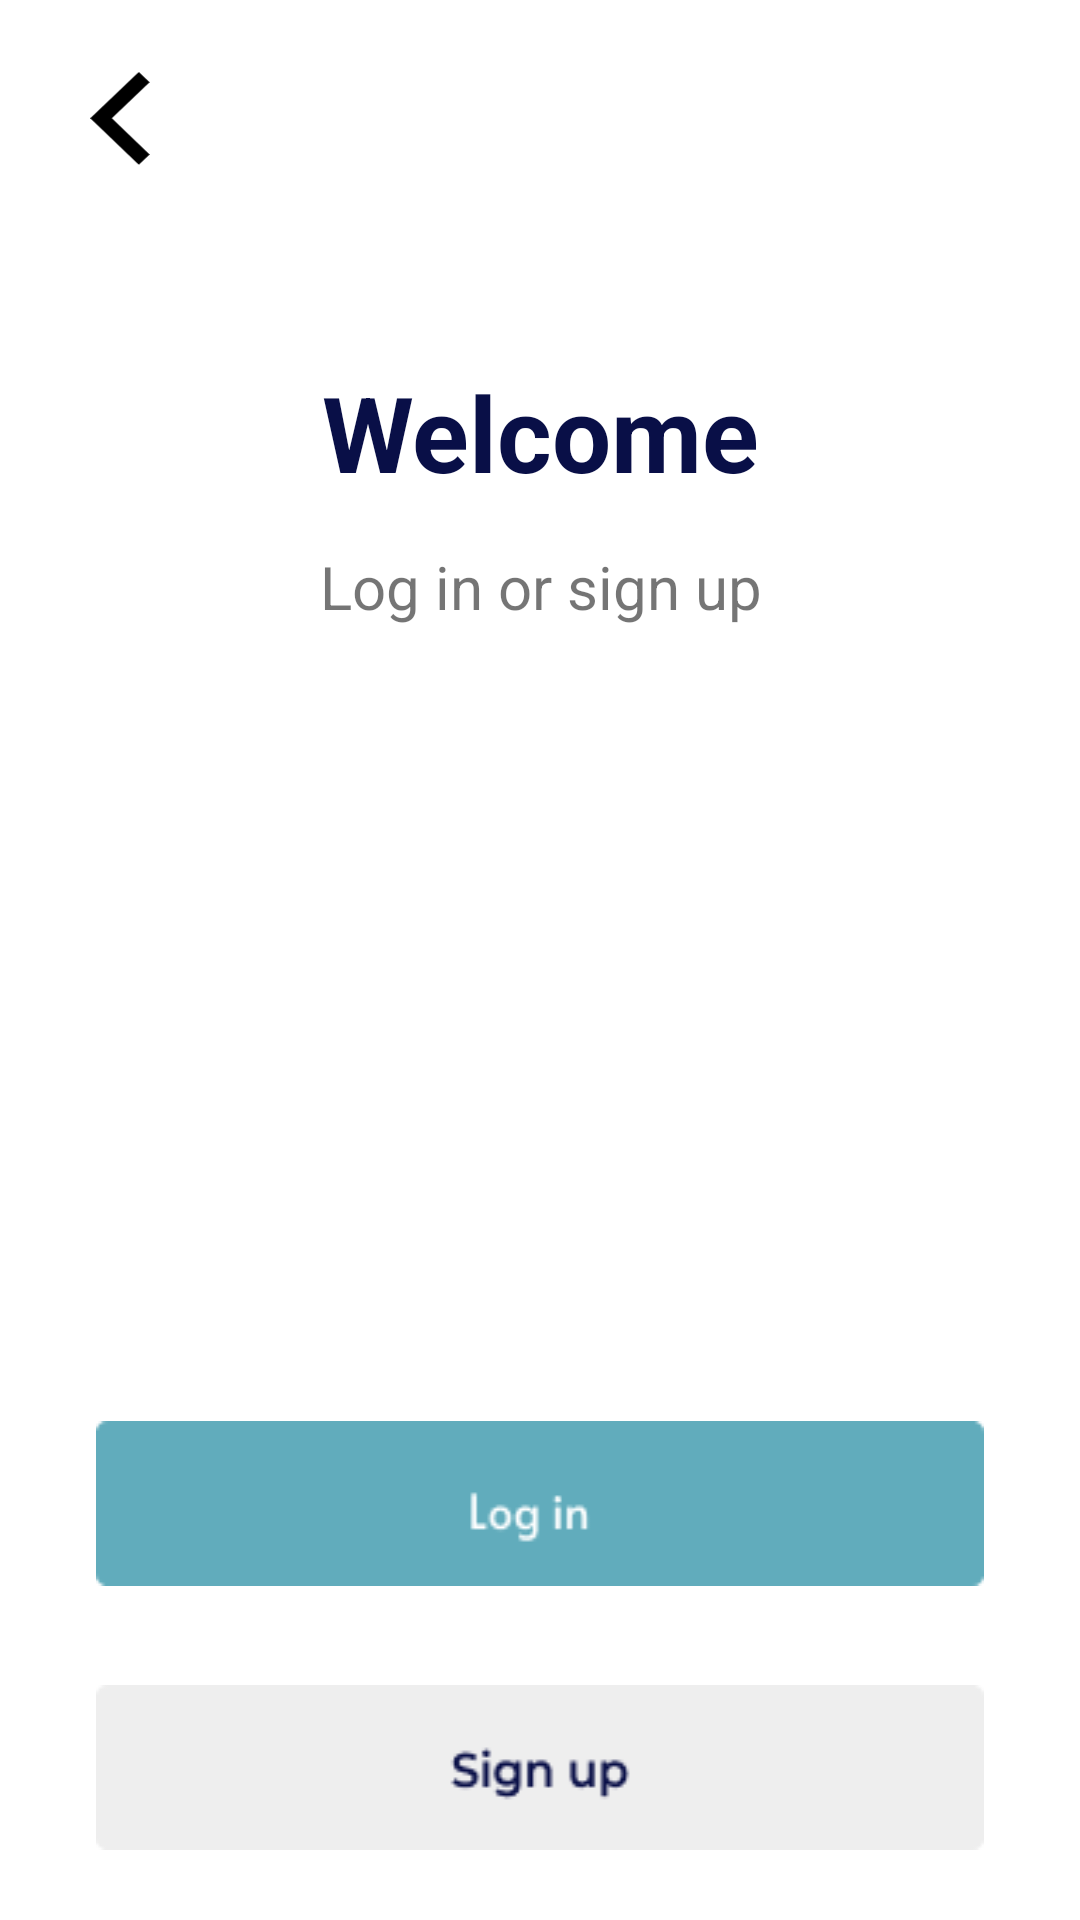

Where to tap for icons on this 1080px x 1920px app screen, as point (x, y):
back: point (120, 118)
